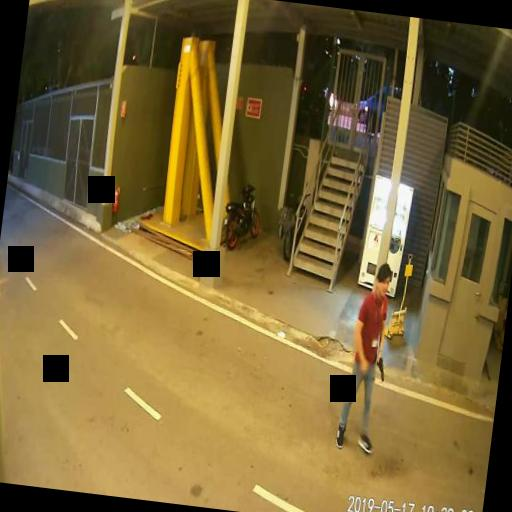Handgun: (374, 352, 385, 380)
